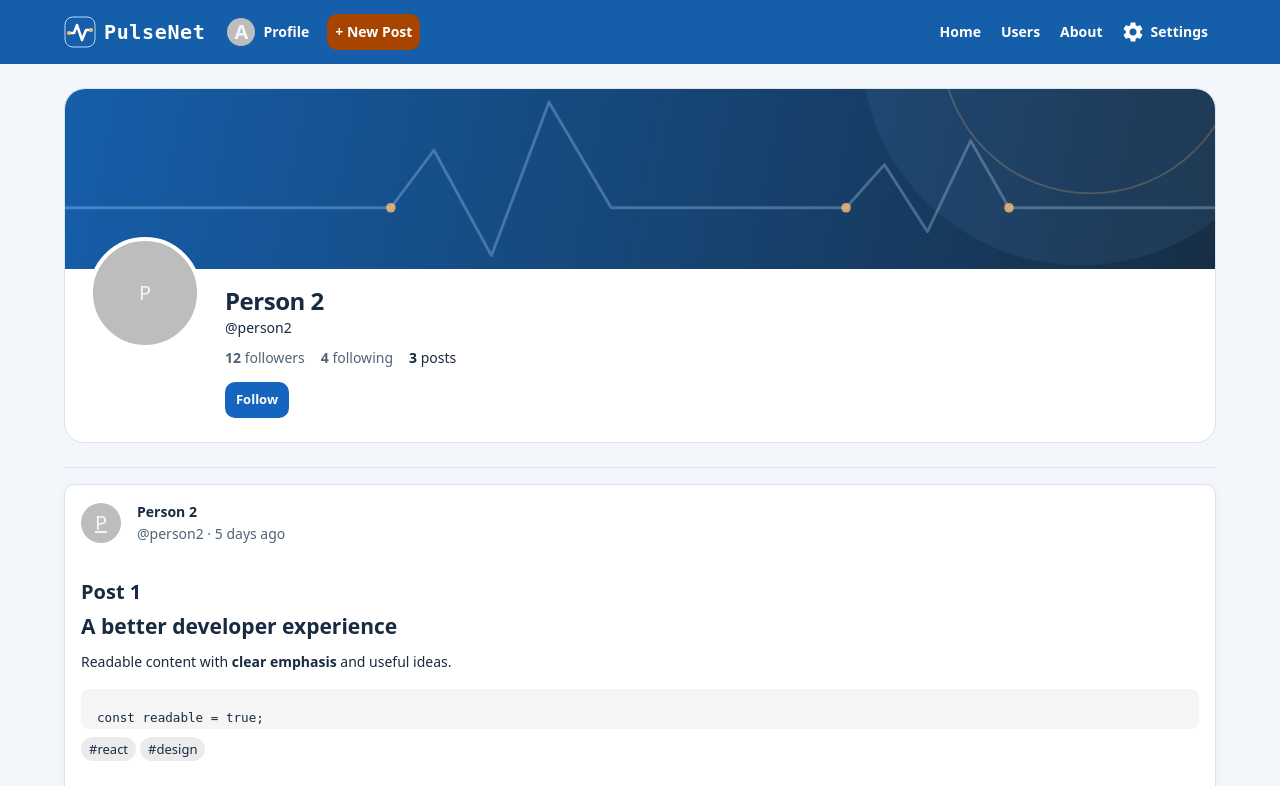
frontend request recovery › keeps a profile visible after a failed follow and allows another attempt
Click the button "Follow".
click(257, 400)  # box x1=225 y1=382 x2=289 y2=418
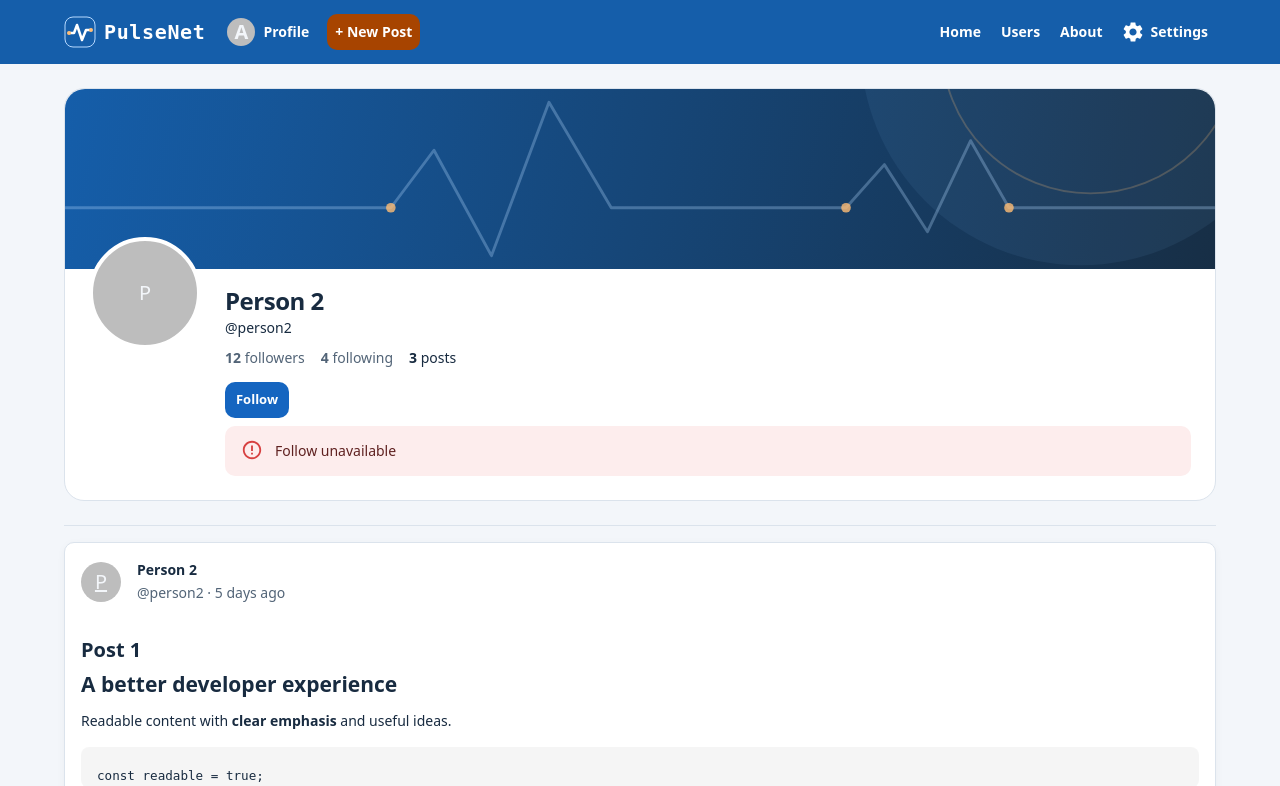
Expected: the heading with test id "profile-name" reads "Person 2", x1=225 y1=284 x2=324 y2=317
Now the text "Follow unavailable" is shown, box x1=275 y1=441 x2=396 y2=460
Click the button "Follow".
click(257, 400)  # box x1=225 y1=382 x2=289 y2=418
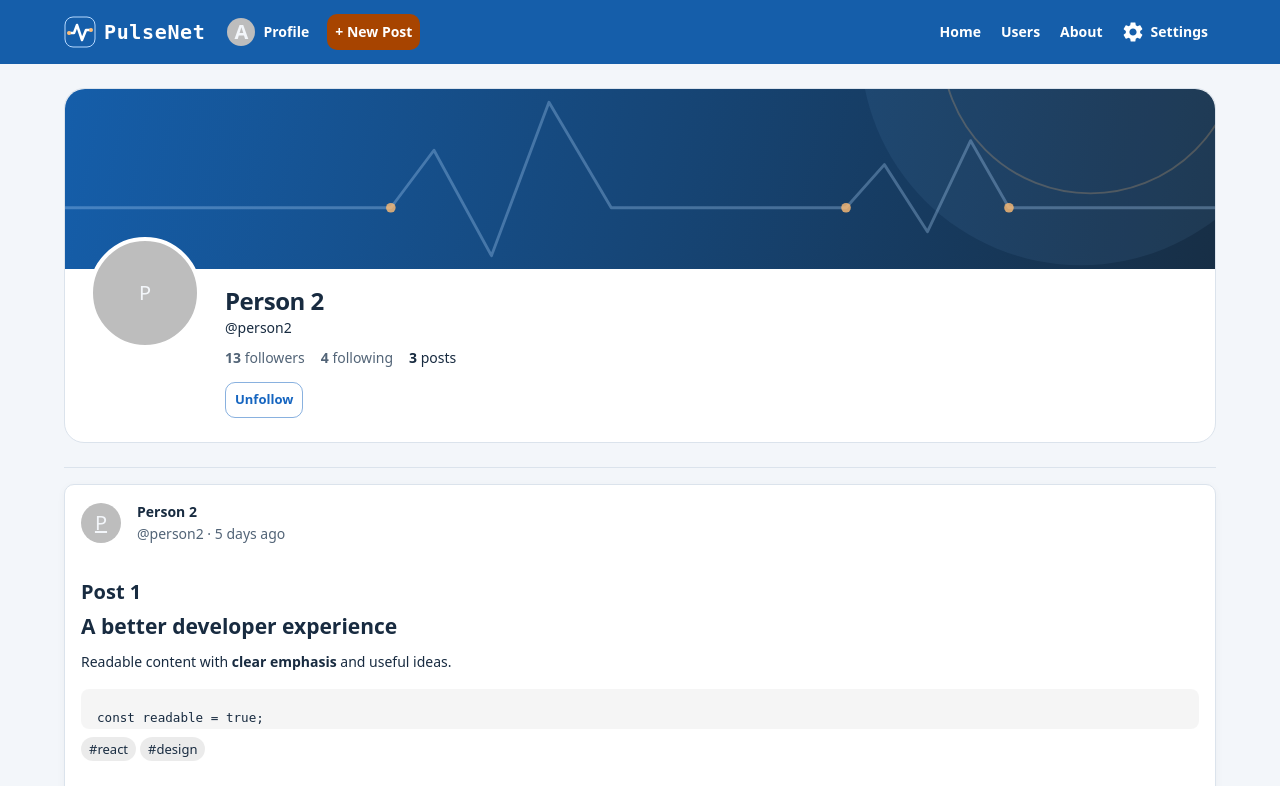
Now the button "Unfollow" is shown, box x1=225 y1=382 x2=303 y2=418
Now the text with test id "followers-count" reads "13", box x1=225 y1=348 x2=241 y2=367
